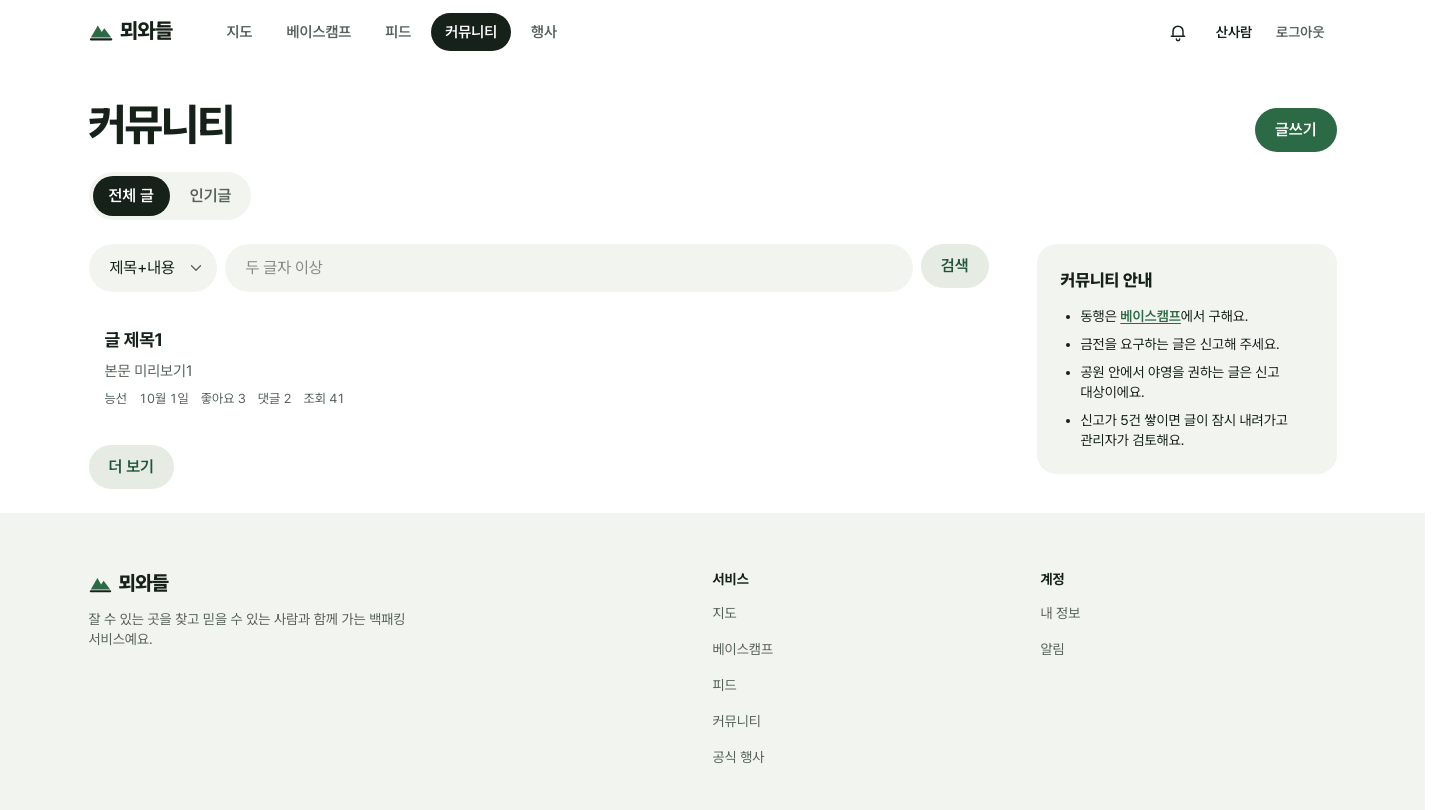
Test case: 커뮤니티 글 목록 화면 › 더 보기가 실패하면 받아 둔 글은 그대로 두고 오류 문구를 보여 준다
Click the button "더 보기" at (131, 467), box [88,445,174,489]
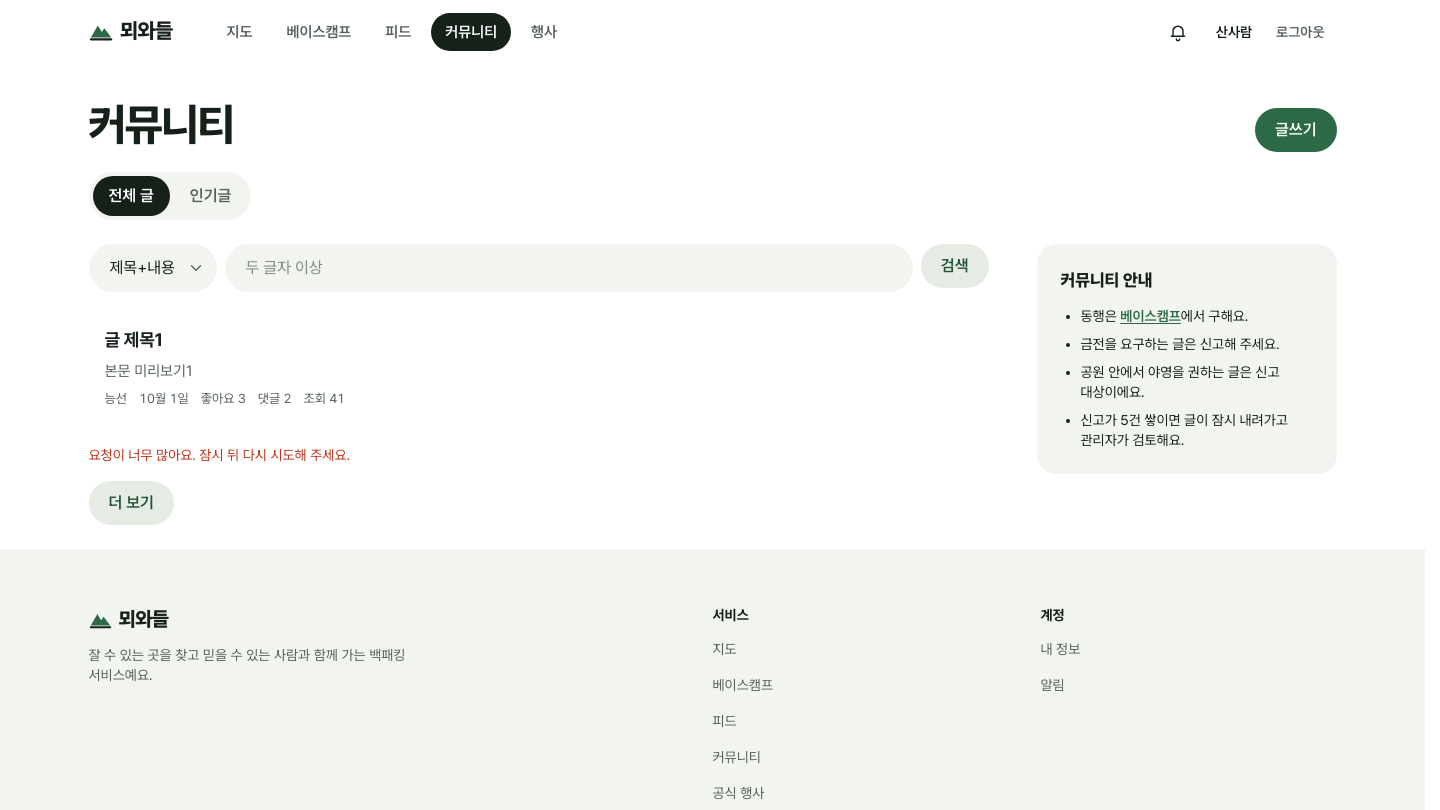
Expected: the text "글 제목1" is shown, [104,328,163,353]
Expected: the message "요청이 너무 많아요. 잠시 뒤 다시 시도해 주세요." is shown, [88,447,350,463]
